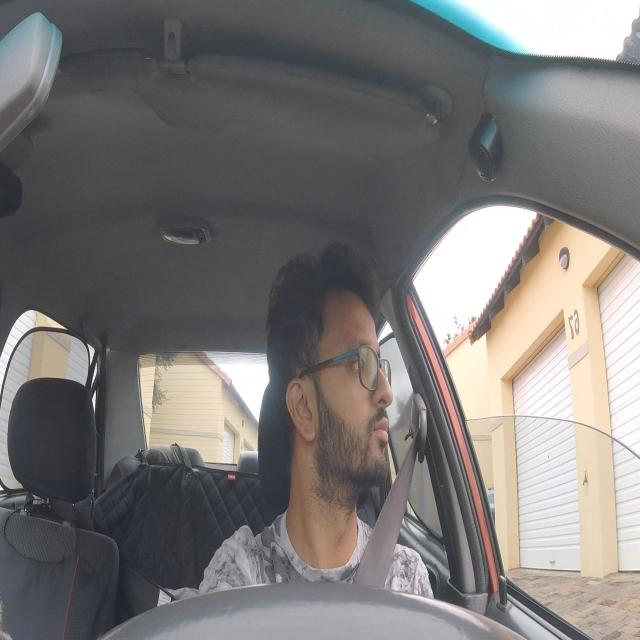open: (343, 340, 373, 390)
